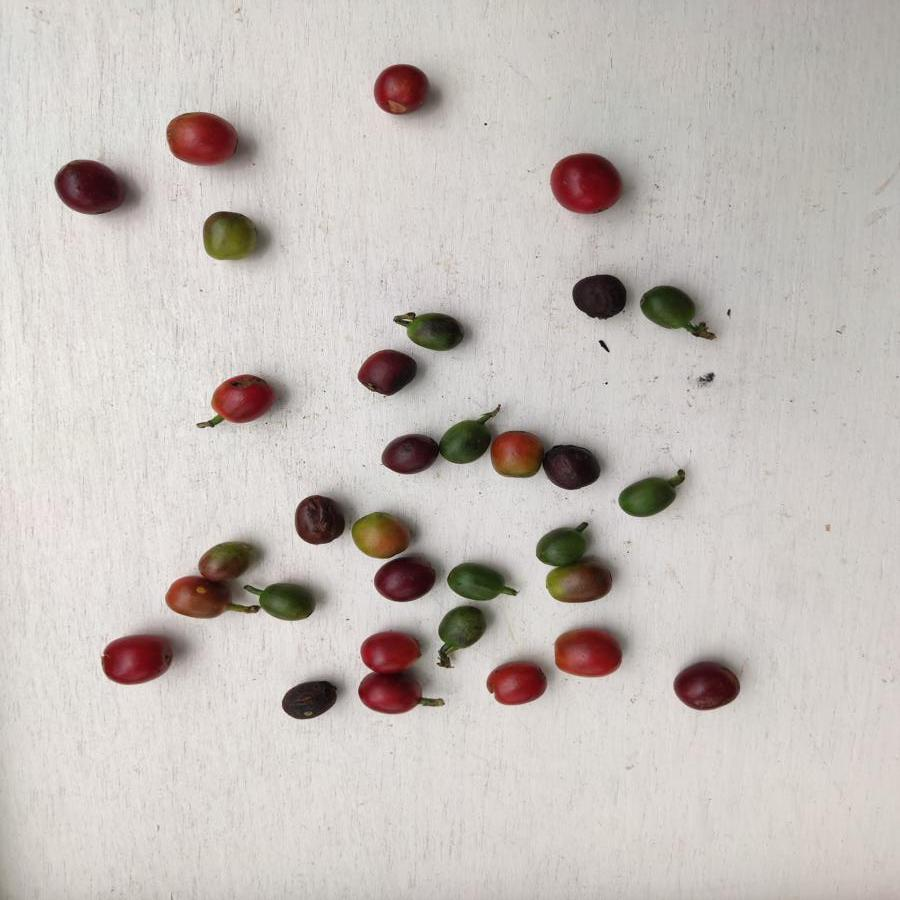Inmaduro: (636, 283, 698, 330), (444, 560, 501, 606), (258, 581, 319, 622), (405, 310, 465, 351), (617, 479, 678, 519), (436, 603, 486, 651), (439, 418, 490, 462), (531, 525, 588, 563)
Maduro: (547, 152, 625, 215), (161, 110, 241, 168), (101, 632, 173, 685), (552, 626, 623, 678), (210, 373, 277, 427), (372, 61, 428, 115), (359, 629, 423, 672), (358, 674, 426, 714), (486, 663, 545, 707)
Pinton: (165, 575, 235, 619), (203, 210, 260, 263), (349, 510, 411, 557), (491, 427, 542, 481), (543, 565, 613, 604), (196, 540, 251, 580)
Sobremaduro: (51, 153, 130, 219), (669, 657, 742, 713), (543, 442, 599, 496), (567, 274, 627, 323), (361, 349, 419, 395), (373, 558, 433, 602), (291, 495, 342, 546), (281, 676, 336, 722), (380, 432, 437, 476)
